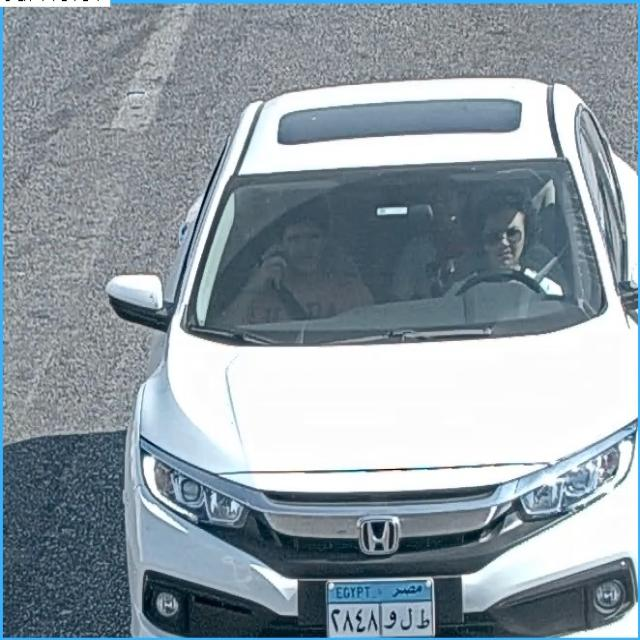windshield: (196, 166, 598, 332)
